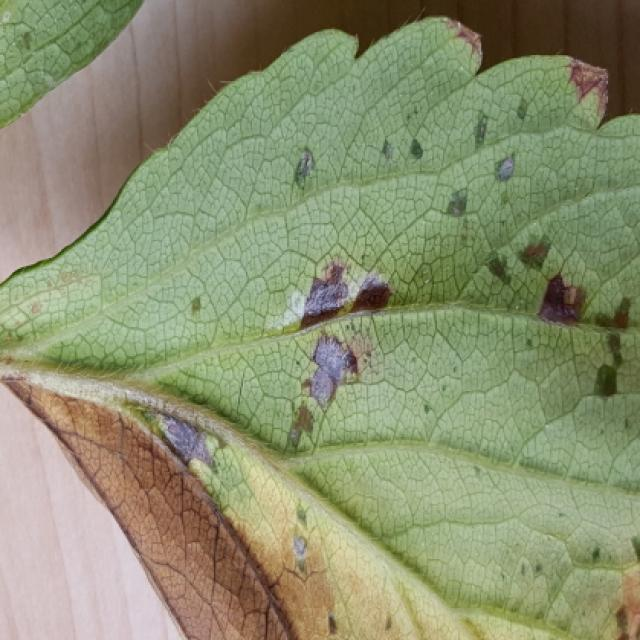Angular Leafspot: (0, 18, 638, 638)
